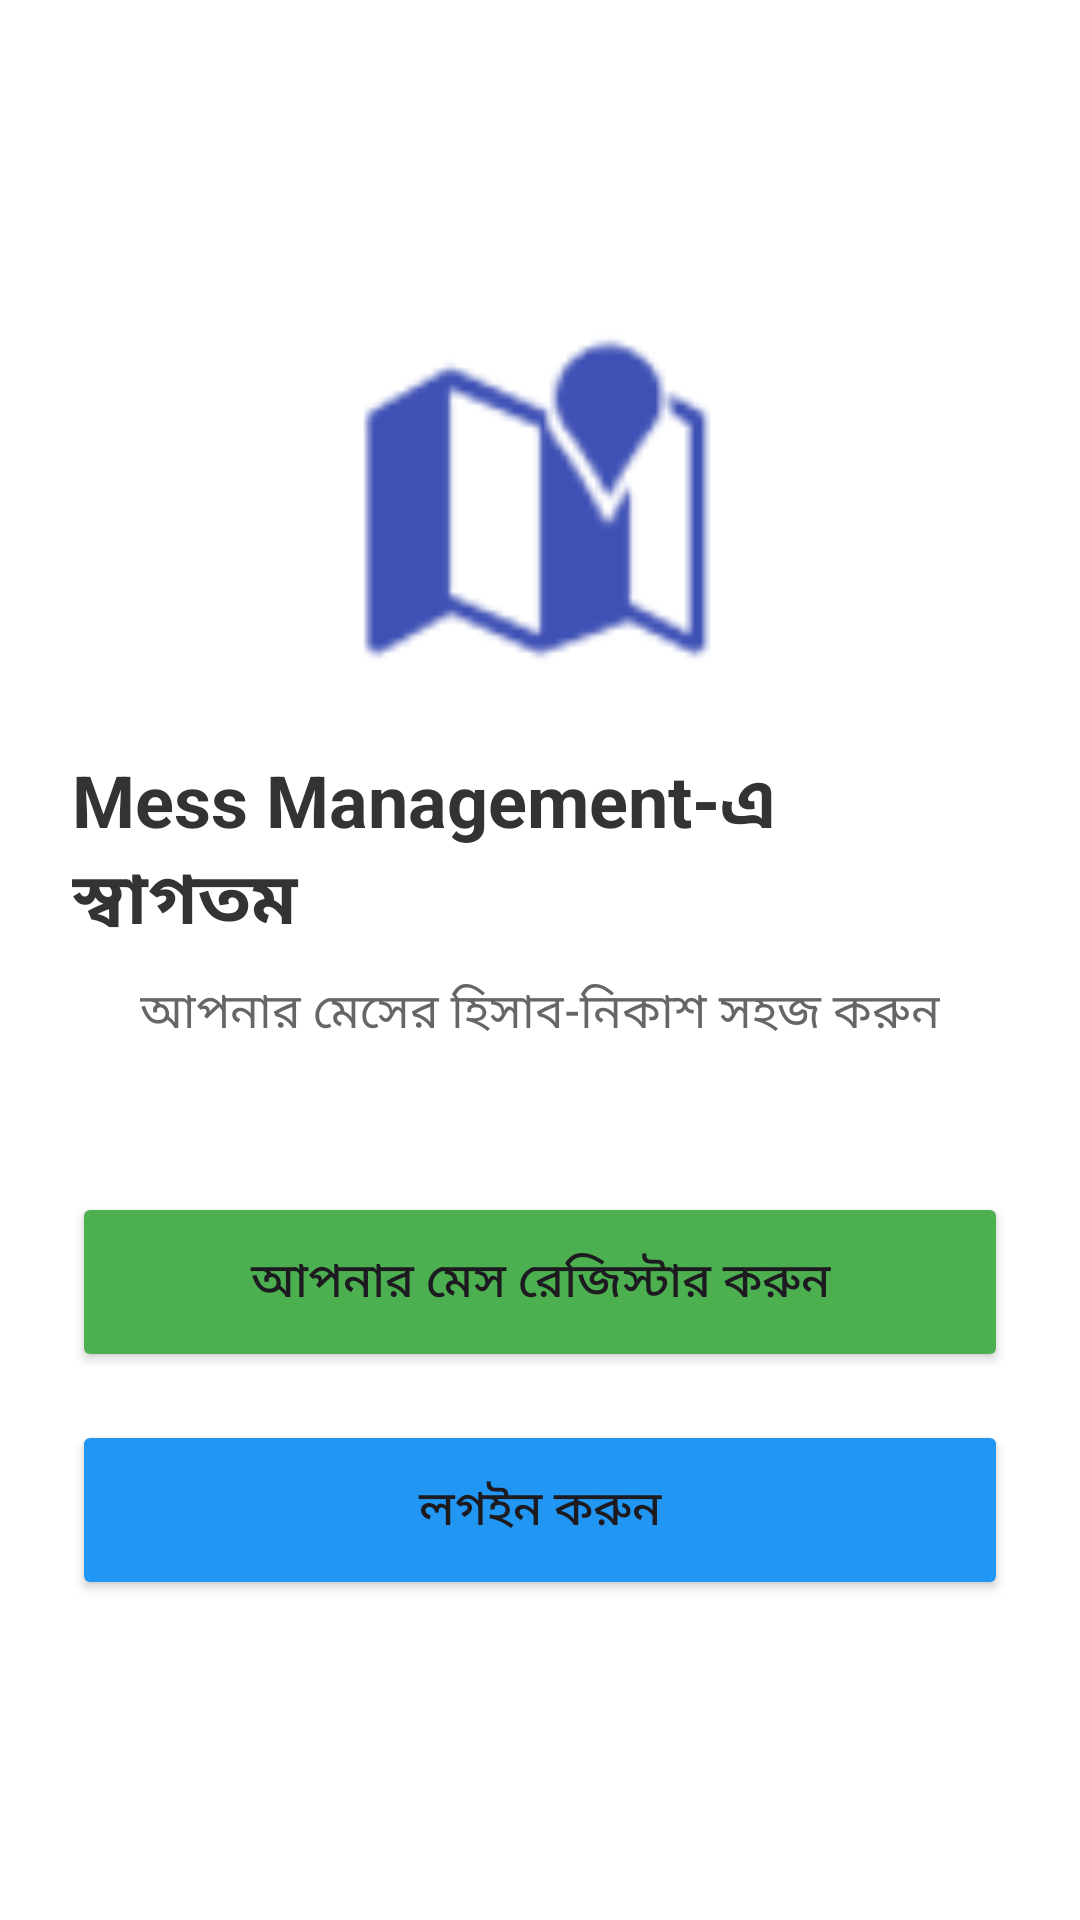

Icons on this 1080 × 1920 Android screen, each with the point to tap as [x,y]:
map: [537,499]
